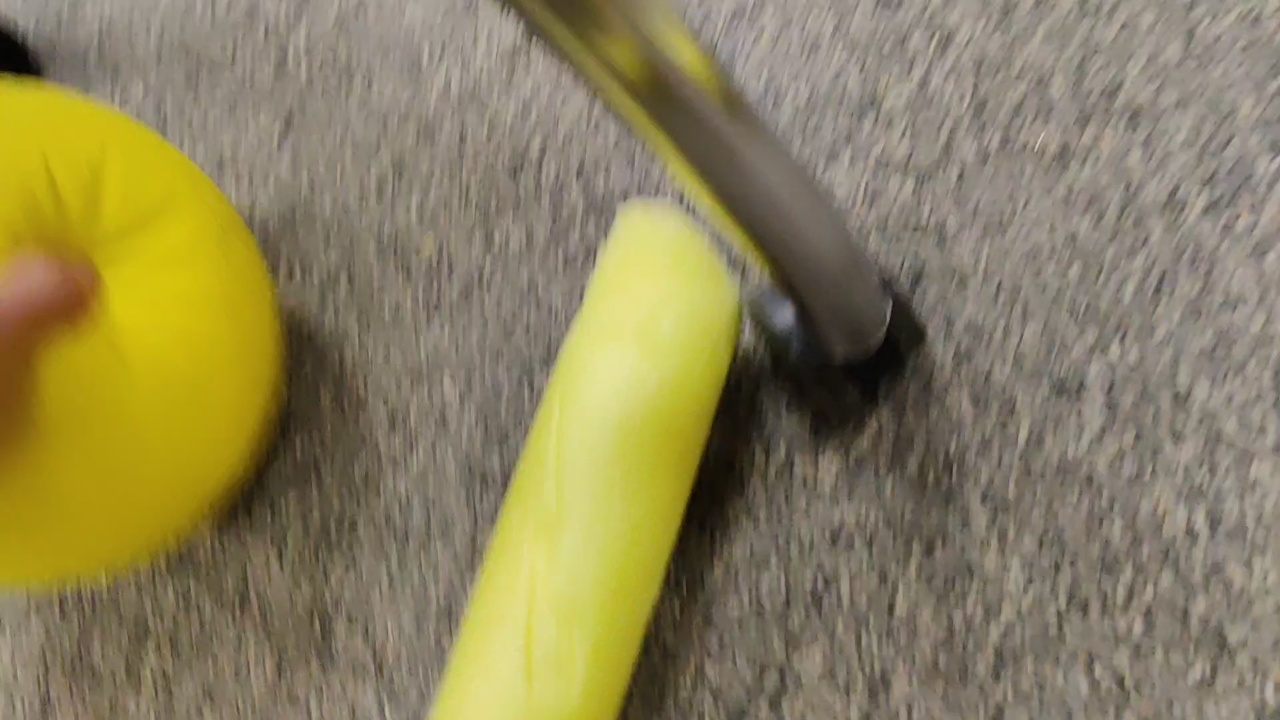Ball: (1, 95, 282, 591)
